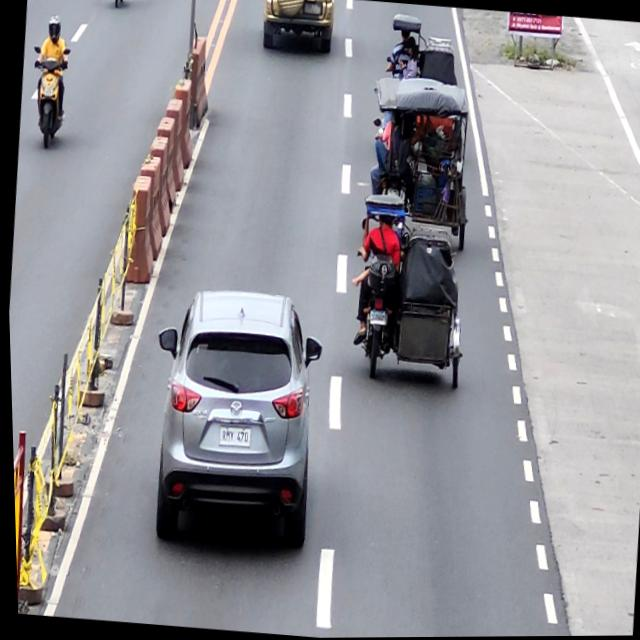Car: (136, 282, 330, 556), (258, 0, 337, 57)
License-Plate: (215, 426, 248, 449), (365, 310, 386, 327), (304, 3, 322, 15)
Tricycle: (344, 190, 475, 391), (358, 75, 480, 251), (384, 10, 464, 91)
